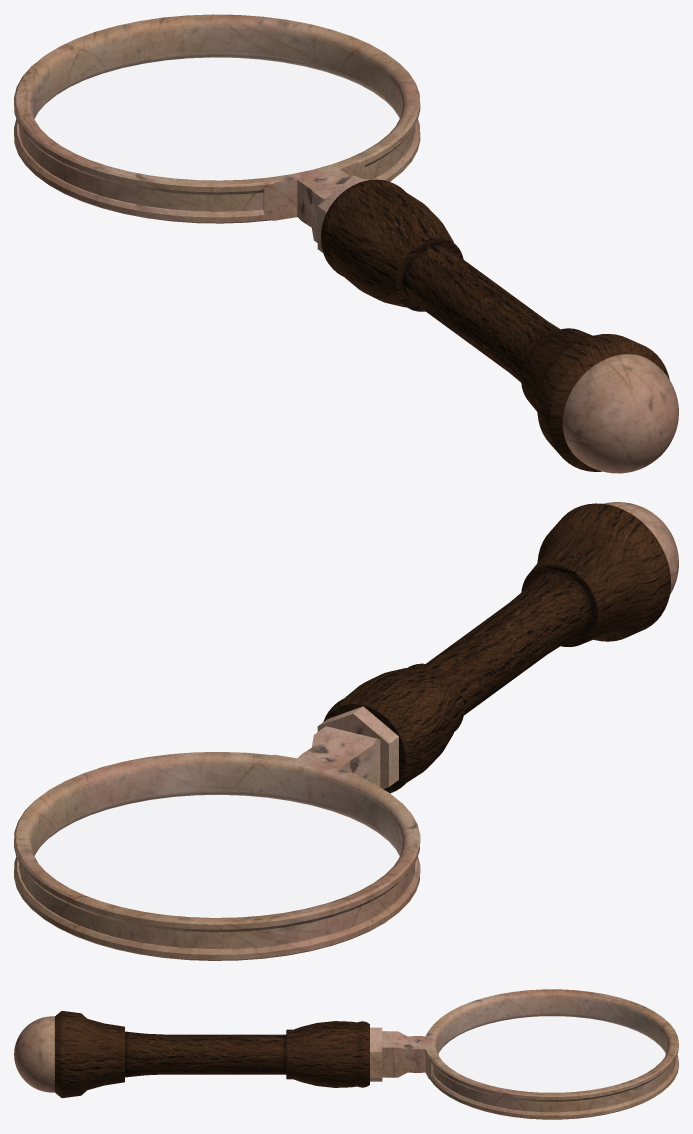
The model's file is magnifier.glb.
The picture shows the model from 3 angles, top to bottom: view 1: azimuth 30°, elevation 25°; view 2: azimuth 150°, elevation 25°; view 3: azimuth 270°, elevation 25°; orthographic projection. The views are drawn at different scales.
Visible parts, largest first — view 1: Magnifier_1; view 2: Magnifier_1; view 3: Magnifier_1.
Part boxes in pixels (<box>): Magnifier_1: <box>14,14,678,473</box>; Magnifier_1: <box>14,502,678,960</box>; Magnifier_1: <box>14,989,678,1119</box>.
Bounding box in the file's own units: 0.0747 × 0.0259 × 0.1963.
2 materials, 1 textured.
